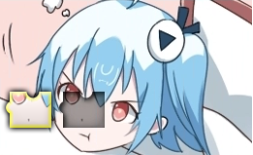gap: (57, 92, 105, 128)
